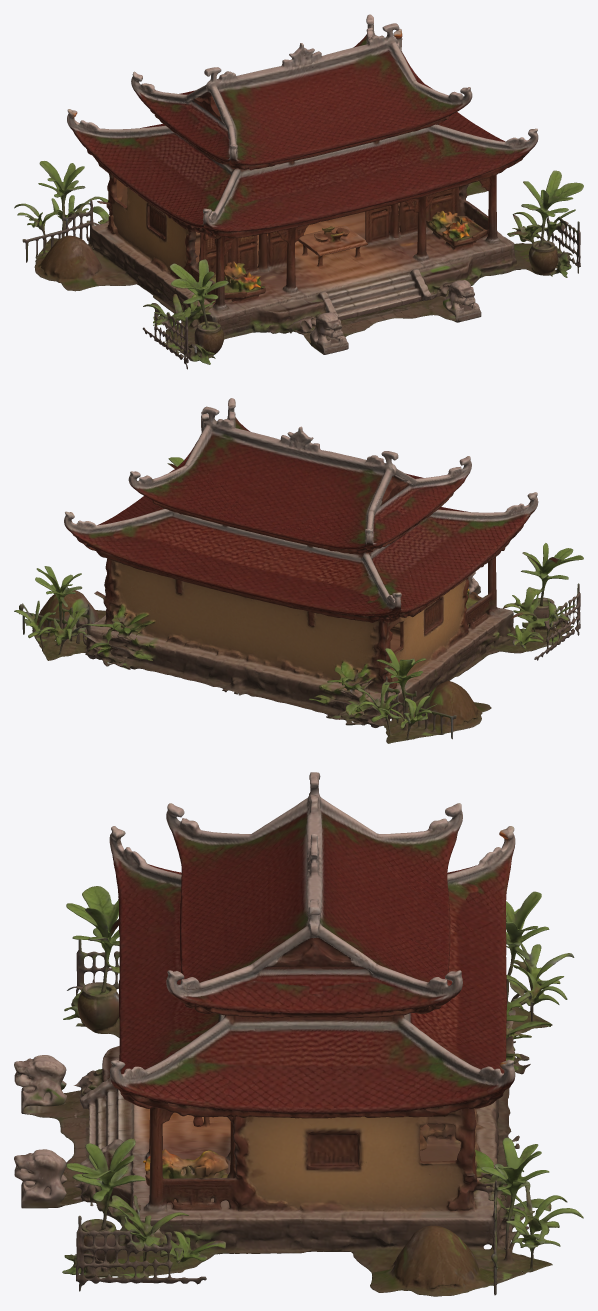
The model's file is Meshy_AI_Lanterns_of_the_Ances_1009042827_texture.glb.
The picture shows the model from 3 angles, top to bottom: view 1: azimuth 30°, elevation 25°; view 2: azimuth 150°, elevation 25°; view 3: azimuth 270°, elevation 25°; orthographic projection. The views are drawn at different scales.
Size of the model in its own units: 1.88 by 0.8938 by 1.45.
Materials: 1 (1 with a texture image).
